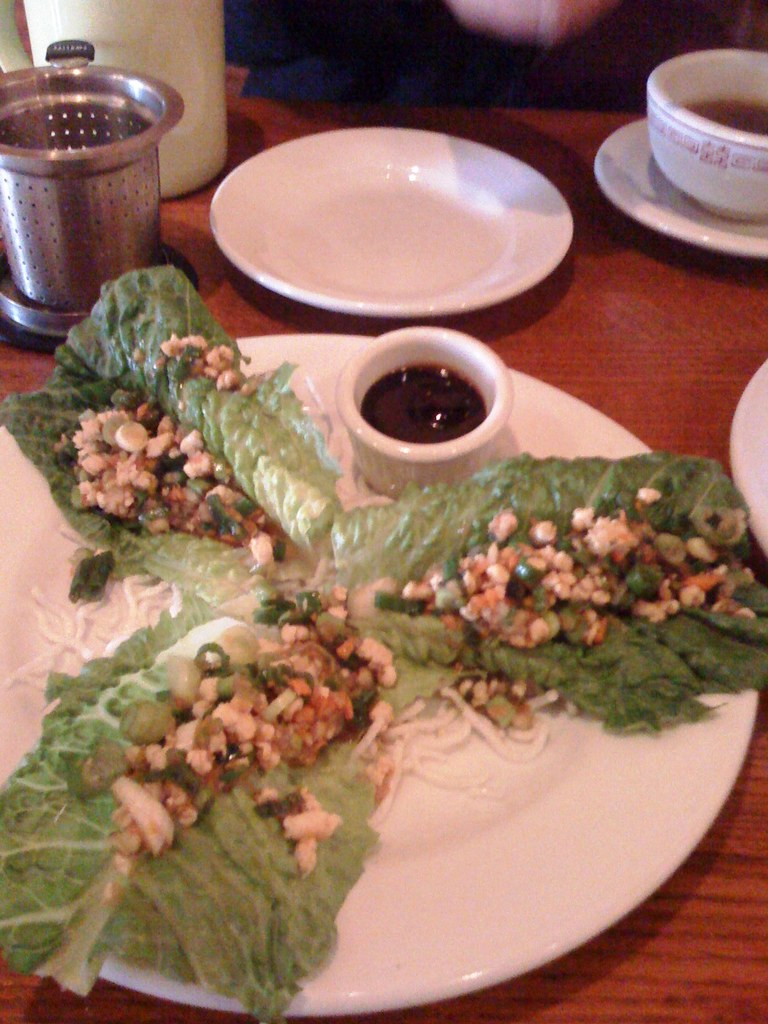plate: (193, 120, 579, 284)
